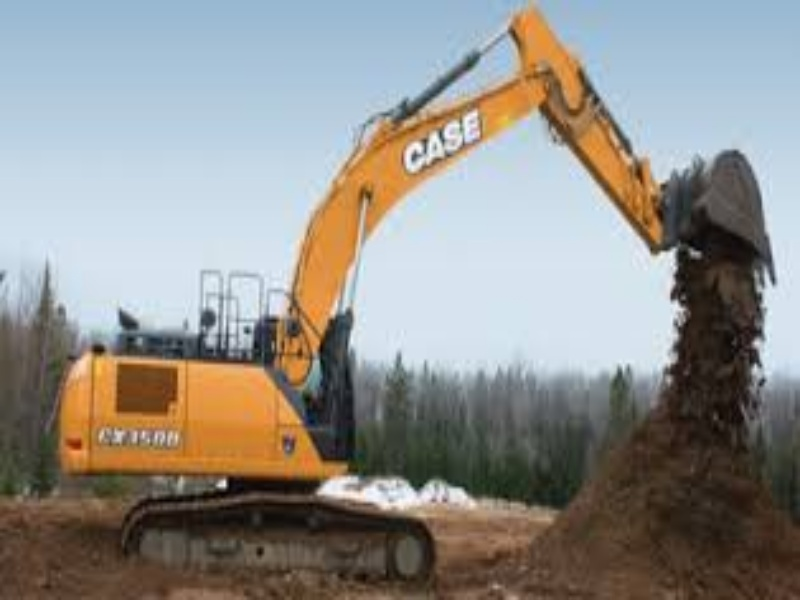wajueji: (25, 264, 506, 590)
